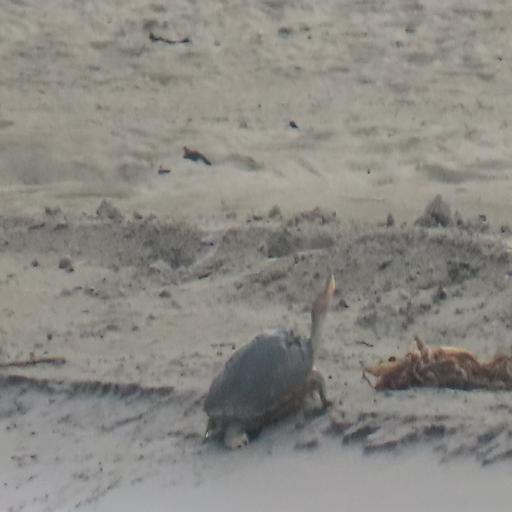turtle: (202, 262, 340, 446)
